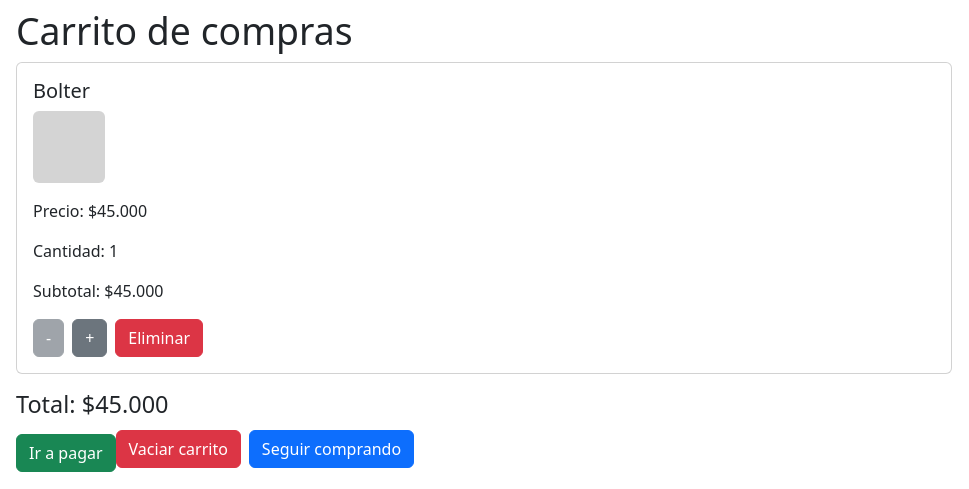
Cart › elimina un producto del carrito
Expected: the heading "Bolter" is shown, [33,77,90,104]
What coordinates should you click on to do the following:
click the button "Eliminar"
I would click on:
 (159, 338)
Its box is [115,319,203,357].
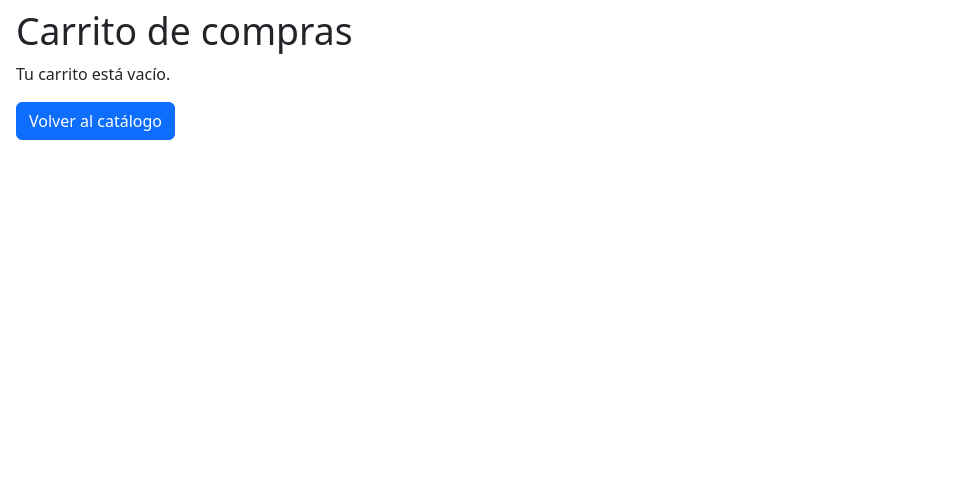
Result: the text "Tu carrito está vacío." is shown at [16,63,170,85]
Result: the heading "Bolter" is gone
